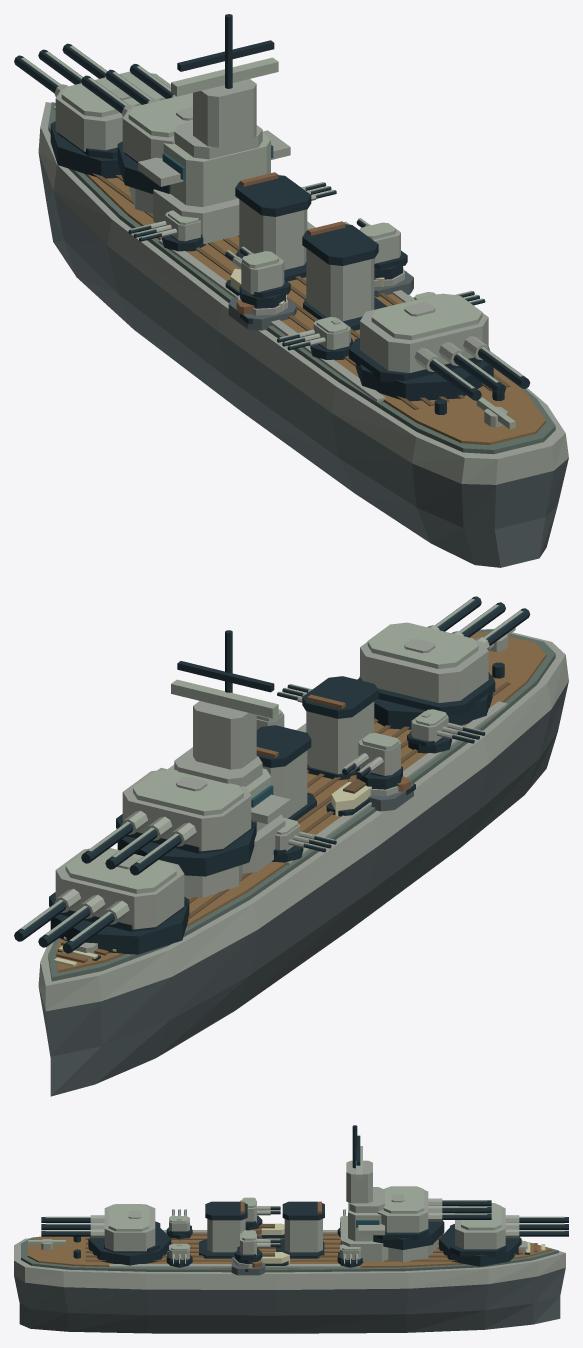
File: historic-littorio.glb
The picture shows the model from 3 angles, top to bottom: view 1: azimuth 30°, elevation 25°; view 2: azimuth 150°, elevation 25°; view 3: azimuth 270°, elevation 25°; orthographic projection. The views are drawn at different scales.
Visible parts, largest first — view 1: historic-littorio-historic-littorio-geometry, historic-littorio-part_bridge.037-geometry, historic-littorio-turret_main_2.025-geometry, historic-littorio-turret_main_0.027-geometry, historic-littorio-historic_funnel_1.017-geometry, historic-littorio-turret_main_1.026-geometry, historic-littorio-historic_funnel_0.038-geometry, historic-littorio-turret_aa_aa-port.039-geometry, historic-littorio-turret_secondary_1.009-geometry, historic-littorio-turret_secondary_0.009-geometry, historic-littorio-turret_aa_aa-starboard.037-geometry, historic-littorio-part_aa-port.039-geometry; view 2: historic-littorio-historic-littorio-geometry, historic-littorio-turret_main_2.025-geometry, historic-littorio-turret_main_1.026-geometry, historic-littorio-turret_main_0.027-geometry, historic-littorio-part_bridge.037-geometry, historic-littorio-historic_funnel_1.017-geometry, historic-littorio-historic_funnel_0.038-geometry, historic-littorio-turret_aa_aa-port.039-geometry, historic-littorio-turret_secondary_1.009-geometry, historic-littorio-turret_secondary_0.009-geometry, historic-littorio-part_aa-port.039-geometry; view 3: historic-littorio-historic-littorio-geometry, historic-littorio-turret_main_2.025-geometry, historic-littorio-turret_main_0.027-geometry, historic-littorio-turret_main_1.026-geometry, historic-littorio-part_bridge.037-geometry, historic-littorio-historic_funnel_0.038-geometry, historic-littorio-historic_funnel_1.017-geometry, historic-littorio-turret_aa_aa-starboard.037-geometry, historic-littorio-turret_aa_aa-port.039-geometry, historic-littorio-turret_secondary_1.009-geometry, historic-littorio-turret_secondary_3.007-geometry, historic-littorio-turret_secondary_2.007-geometry (+1 smaller).
Boxes of the visible parts, bbox=[...] form: historic-littorio-historic-littorio-geometry: bbox=[38, 102, 568, 567]; historic-littorio-part_bridge.037-geometry: bbox=[138, 14, 290, 244]; historic-littorio-turret_main_2.025-geometry: bbox=[349, 293, 530, 401]; historic-littorio-turret_main_0.027-geometry: bbox=[14, 43, 170, 178]; historic-littorio-historic_funnel_1.017-geometry: bbox=[302, 221, 387, 330]; historic-littorio-turret_main_1.026-geometry: bbox=[81, 63, 192, 193]; historic-littorio-historic_funnel_0.038-geometry: bbox=[235, 172, 311, 281]; historic-littorio-turret_aa_aa-port.039-geometry: bbox=[225, 246, 290, 308]; historic-littorio-turret_secondary_1.009-geometry: bbox=[277, 317, 353, 360]; historic-littorio-turret_secondary_0.009-geometry: bbox=[128, 210, 205, 251]; historic-littorio-turret_aa_aa-starboard.037-geometry: bbox=[343, 218, 407, 279]; historic-littorio-part_aa-port.039-geometry: bbox=[228, 295, 296, 330]; historic-littorio-historic-littorio-geometry: bbox=[38, 627, 568, 1096]; historic-littorio-turret_main_2.025-geometry: bbox=[357, 596, 530, 729]; historic-littorio-turret_main_1.026-geometry: bbox=[81, 768, 256, 876]; historic-littorio-turret_main_0.027-geometry: bbox=[14, 848, 189, 954]; historic-littorio-part_bridge.037-geometry: bbox=[157, 630, 290, 873]; historic-littorio-historic_funnel_1.017-geometry: bbox=[302, 676, 378, 780]; historic-littorio-historic_funnel_0.038-geometry: bbox=[256, 725, 316, 820]; historic-littorio-turret_aa_aa-port.039-geometry: bbox=[342, 733, 402, 789]; historic-littorio-turret_secondary_1.009-geometry: bbox=[407, 709, 485, 753]; historic-littorio-turret_secondary_0.009-geometry: bbox=[272, 818, 336, 862]; historic-littorio-part_aa-port.039-geometry: bbox=[368, 776, 413, 811]; historic-littorio-historic-littorio-geometry: bbox=[14, 1223, 565, 1333]; historic-littorio-turret_main_2.025-geometry: bbox=[41, 1204, 171, 1265]; historic-littorio-turret_main_0.027-geometry: bbox=[439, 1203, 568, 1266]; historic-littorio-turret_main_1.026-geometry: bbox=[373, 1186, 491, 1249]; historic-littorio-part_bridge.037-geometry: bbox=[340, 1125, 388, 1261]; historic-littorio-historic_funnel_0.038-geometry: bbox=[276, 1201, 324, 1258]; historic-littorio-historic_funnel_1.017-geometry: bbox=[199, 1201, 247, 1258]; historic-littorio-turret_aa_aa-starboard.037-geometry: bbox=[234, 1230, 280, 1264]; historic-littorio-turret_aa_aa-port.039-geometry: bbox=[240, 1197, 280, 1230]; historic-littorio-turret_secondary_1.009-geometry: bbox=[166, 1209, 192, 1240]; historic-littorio-turret_secondary_3.007-geometry: bbox=[166, 1243, 192, 1267]; historic-littorio-turret_secondary_2.007-geometry: bbox=[337, 1244, 363, 1267].
Size of the model in its own units: 1.13 by 1.84 by 4.82.
